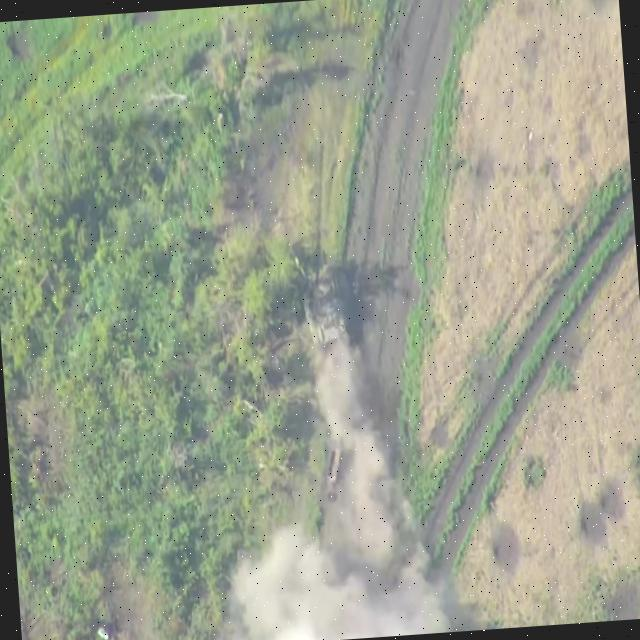MBT: (283, 238, 357, 358)
